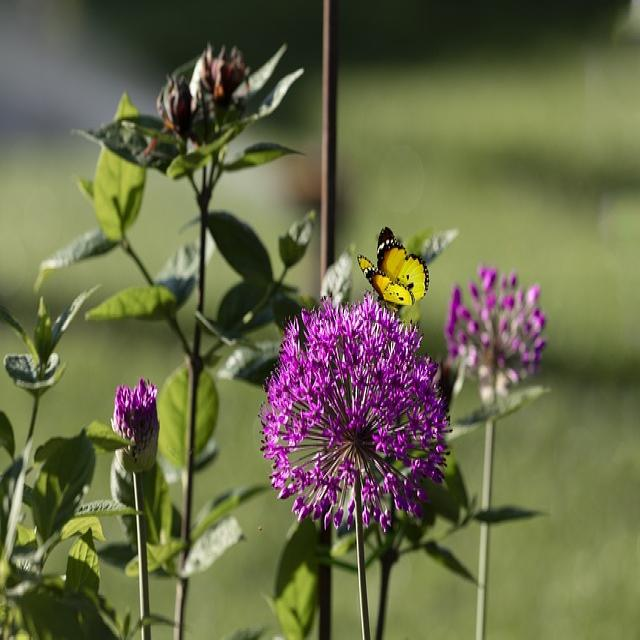butterfly: (358, 227, 458, 326)
